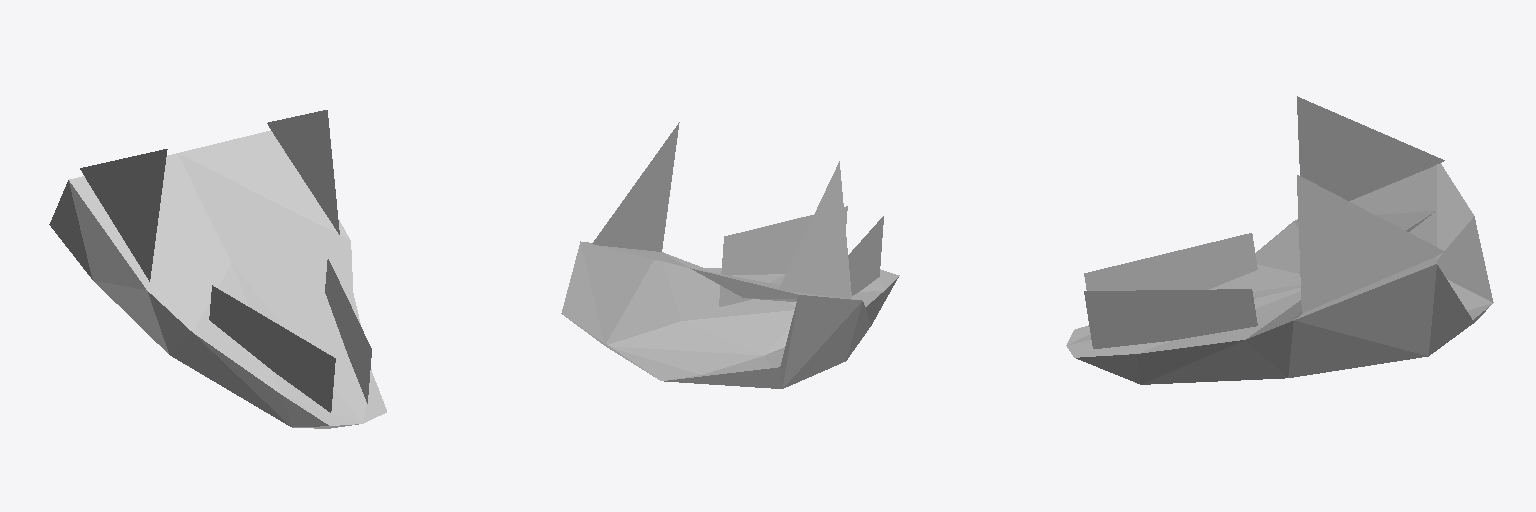
File: dino1_mandibula.obj
3 renders of one model, left to right at view 1: azimuth 30°, elevation 25°; view 2: azimuth 150°, elevation 25°; view 3: azimuth 270°, elevation 25°, orthographic.
Visible parts, largest first — view 1: dino1.008; view 2: dino1.008; view 3: dino1.008.
Part boxes in pixels (bbox=[...]): dino1.008: bbox=[49, 110, 386, 428]; dino1.008: bbox=[561, 122, 899, 388]; dino1.008: bbox=[1066, 96, 1493, 384].
Bounding box in the file's own units: 2.67 × 2.82 × 4.52.